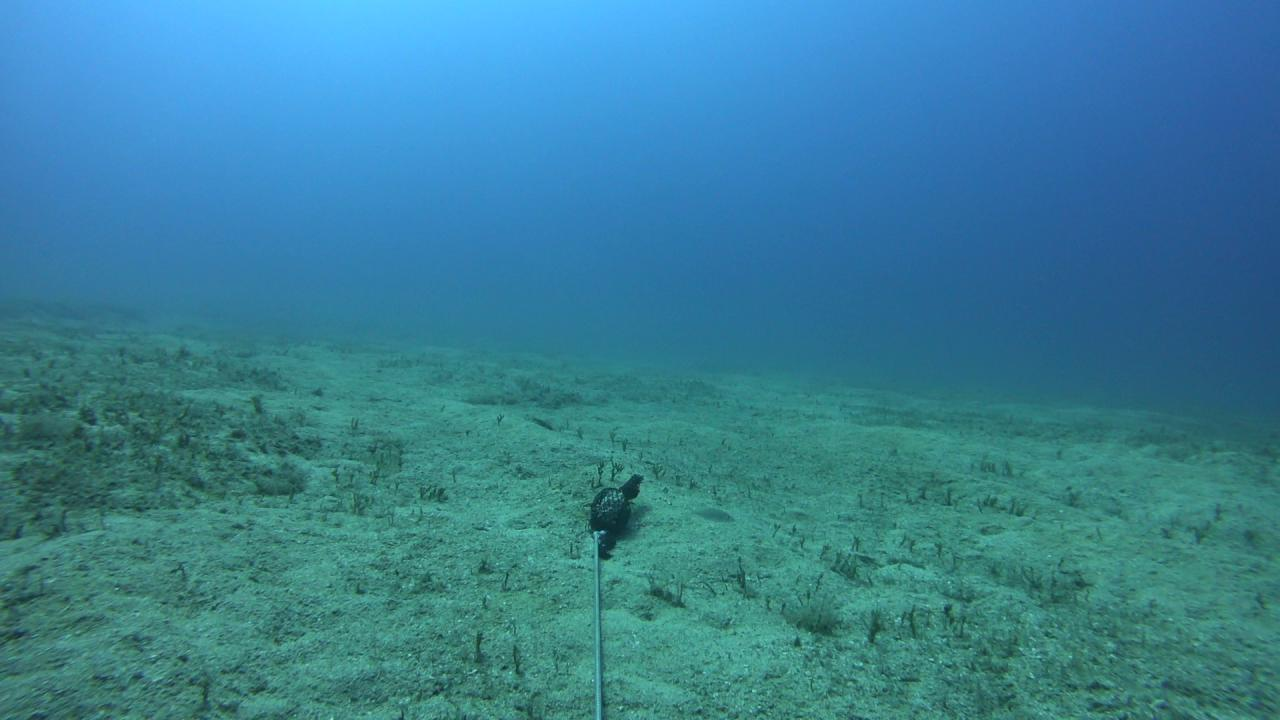pagellus: (683, 506, 734, 524)
